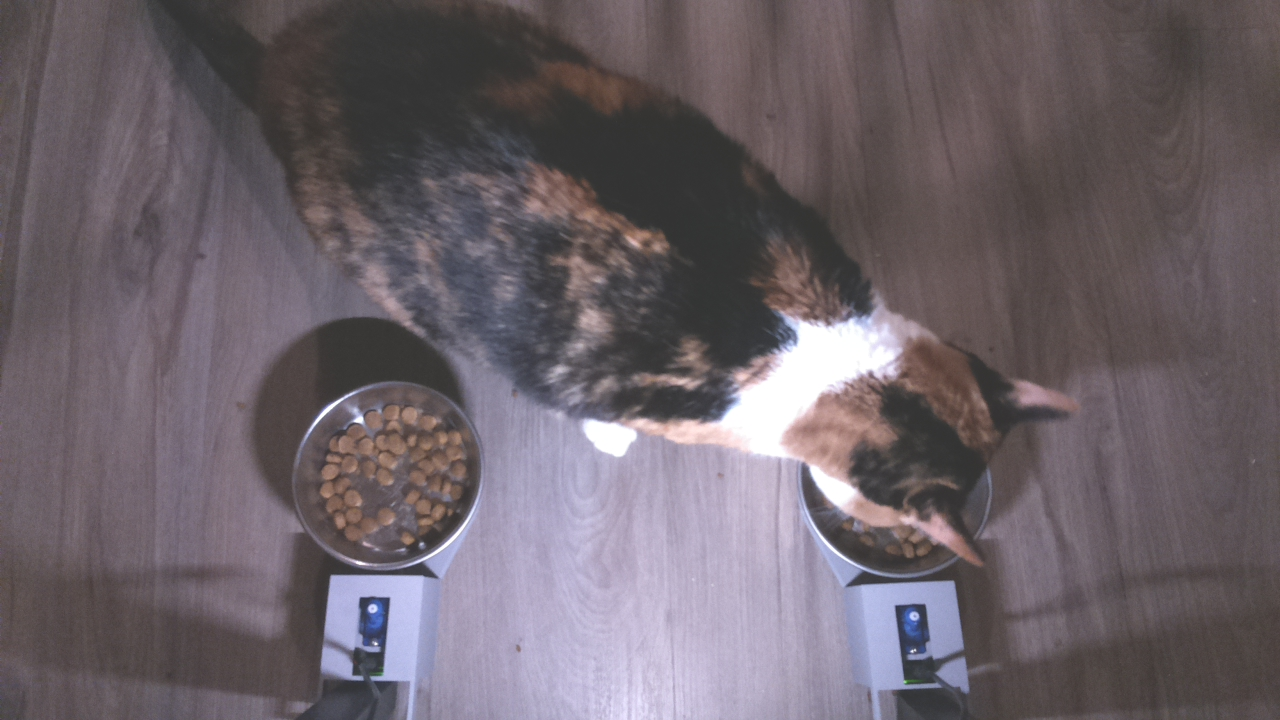bella_eating: (797, 300, 1084, 577)
open_bowl: (290, 378, 486, 577)
